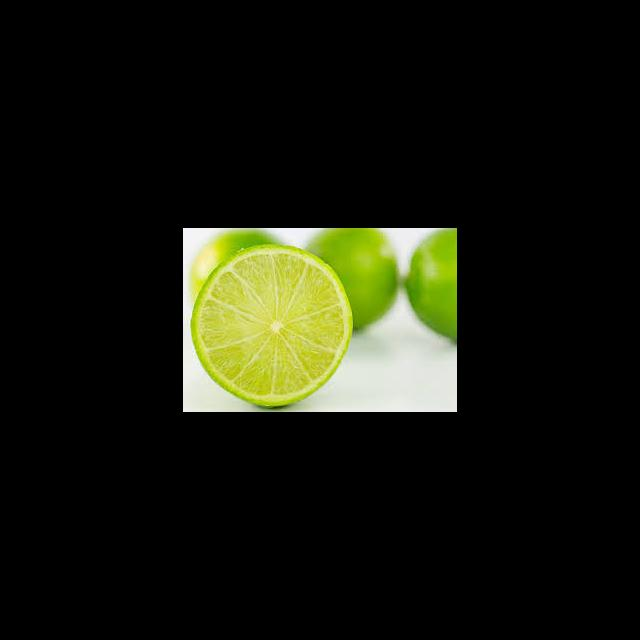lime: (187, 240, 368, 411)
